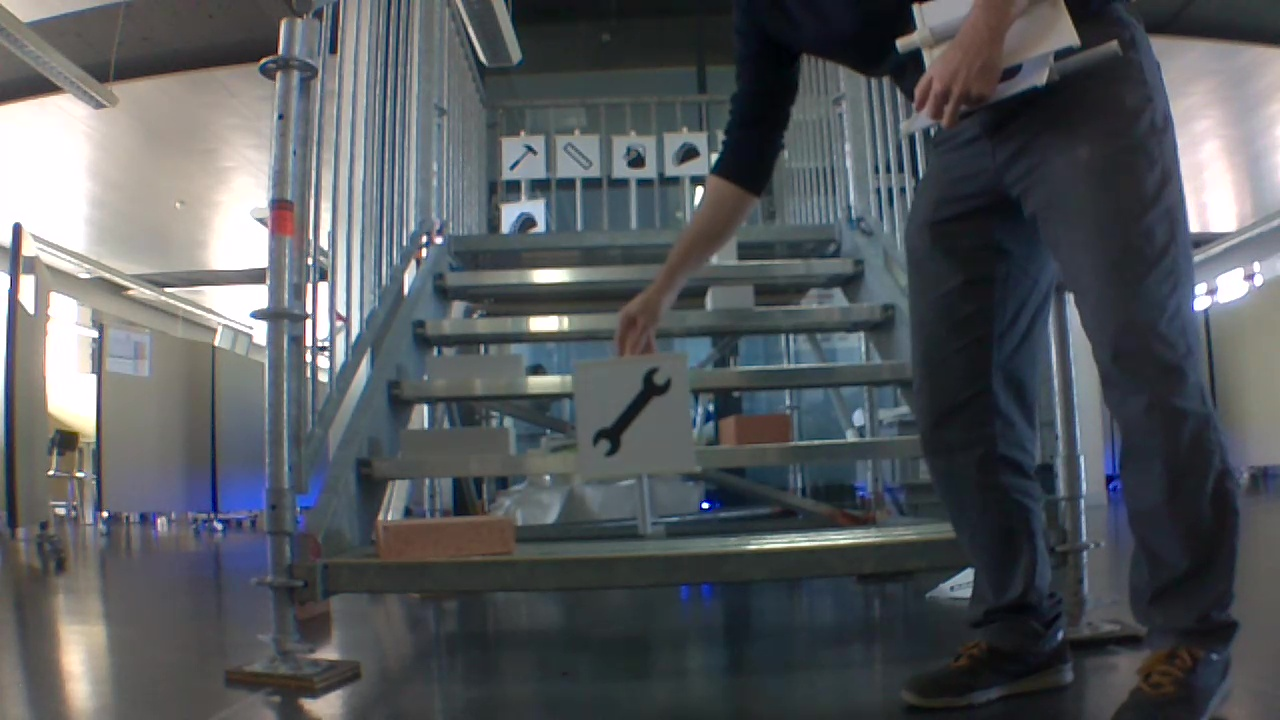brick: (376, 514, 513, 561), (403, 425, 518, 460), (423, 351, 527, 385), (716, 410, 794, 449), (698, 285, 757, 309), (714, 235, 740, 263)
bucket: (620, 141, 649, 173)
edge: (312, 526, 972, 599)
hammer: (506, 143, 539, 175)
ruler: (563, 142, 594, 173)
taco: (670, 139, 704, 168), (511, 209, 540, 233)
wrench: (591, 364, 666, 458)
